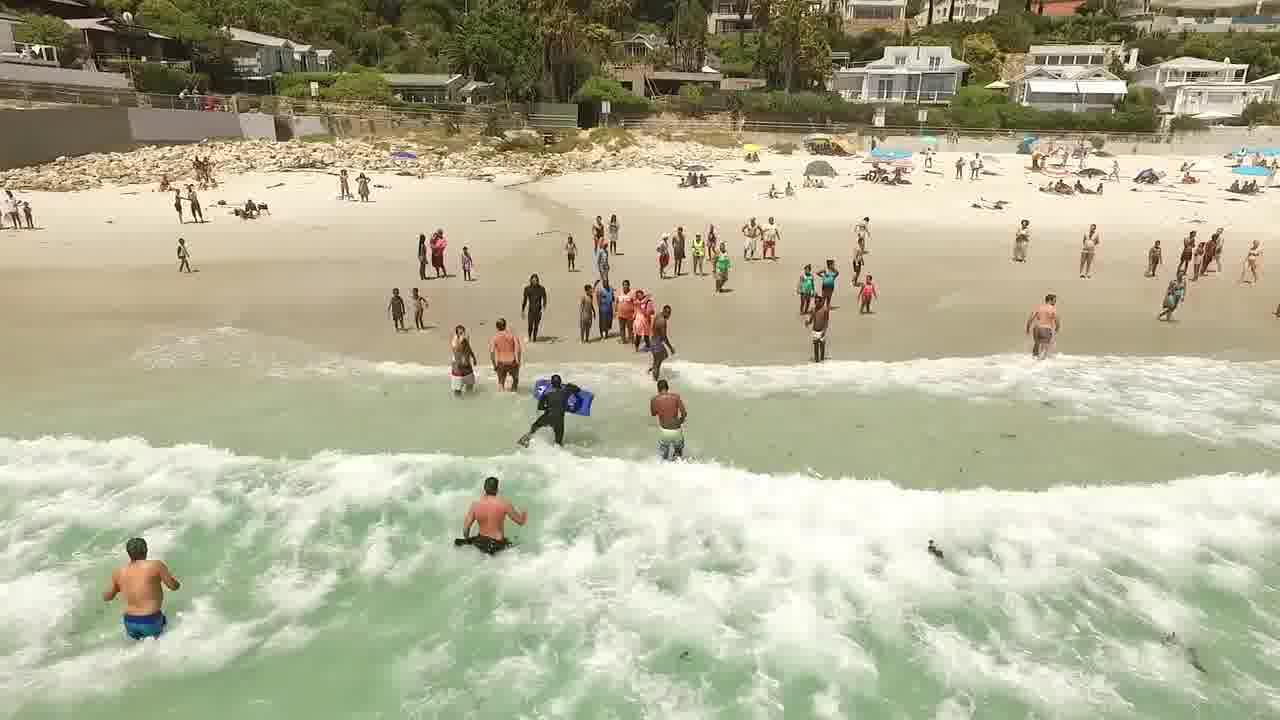swimmer: (469, 465, 525, 569), (110, 524, 176, 601), (643, 367, 689, 454), (479, 313, 523, 380), (437, 319, 471, 377), (649, 304, 682, 361), (1029, 294, 1060, 353), (541, 360, 564, 429), (804, 298, 836, 347), (1163, 270, 1196, 317)
